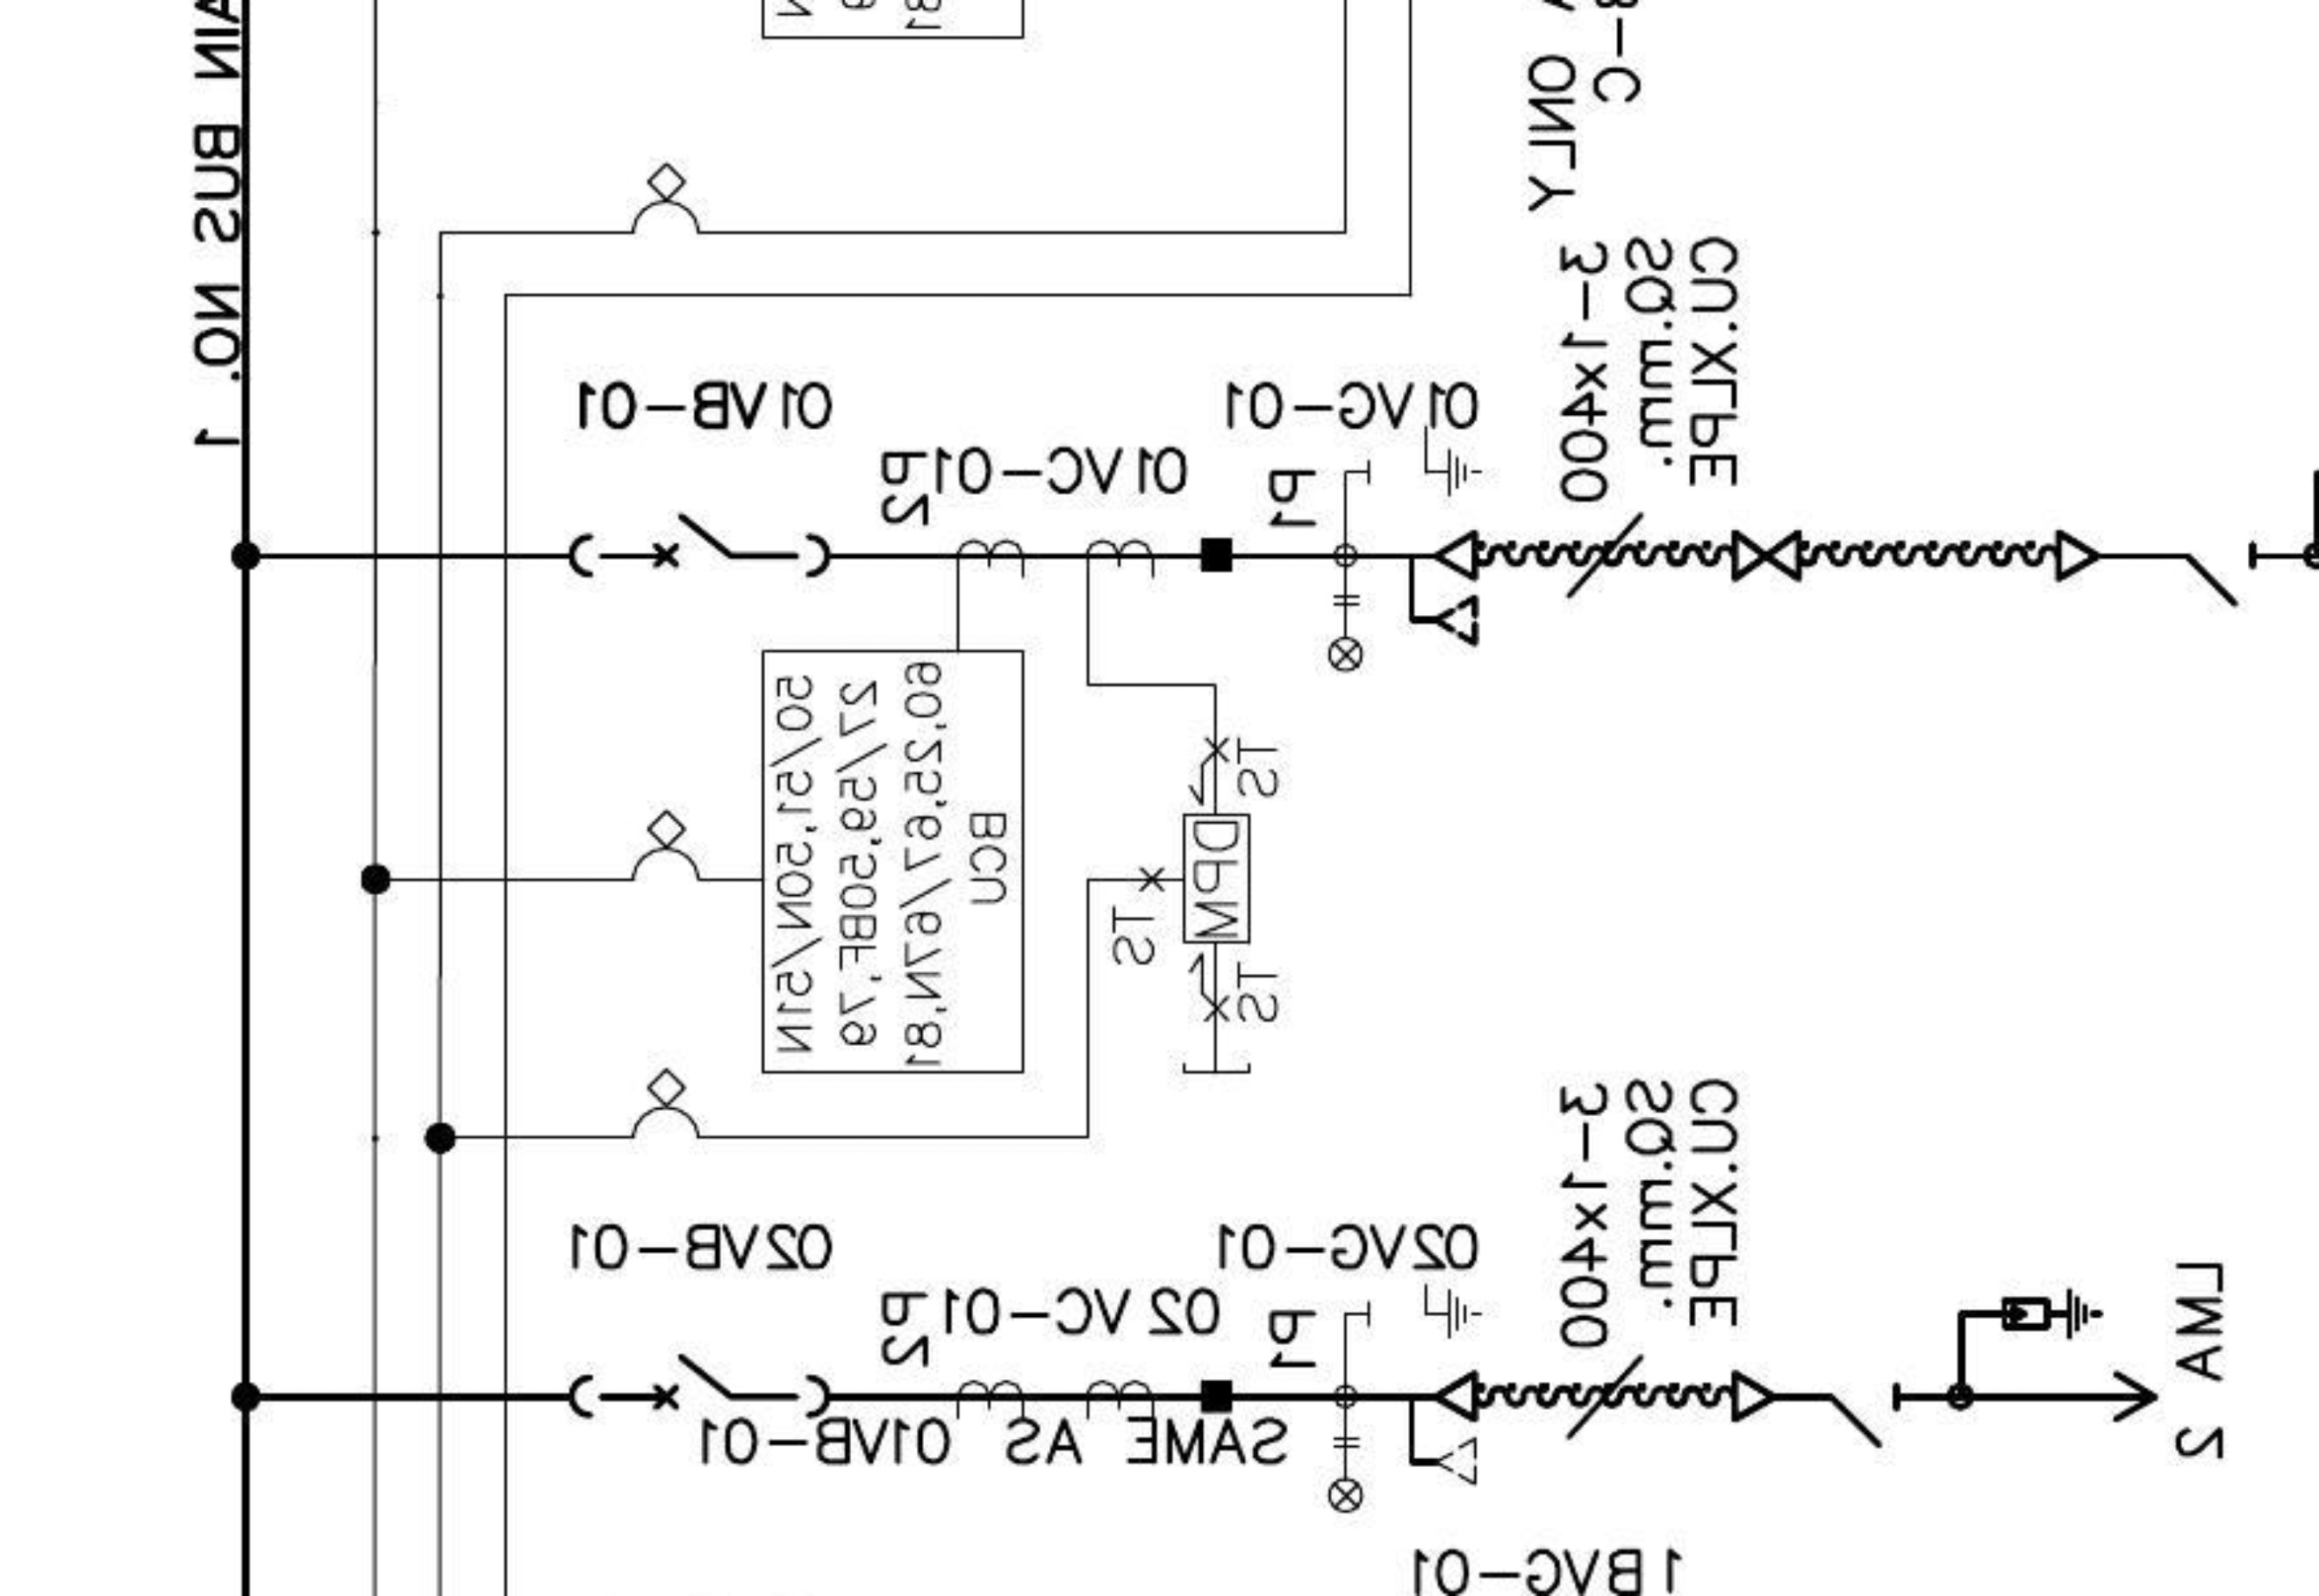22_breaker: (566, 1351, 834, 1422), (567, 511, 834, 581)
22_ds_la_out: (1827, 1288, 2160, 1450)
22_gs: (1364, 425, 1482, 500), (1364, 1279, 1484, 1342)
22_ll: (1325, 594, 1366, 673), (1327, 1434, 1366, 1515)
DPM: (1181, 810, 1255, 948)
terminator_single: (2051, 527, 2100, 587), (1729, 1367, 1776, 1425)
terminator_splicing_kits: (1730, 528, 1803, 583)
terminator_w_future: (1404, 527, 1480, 648), (1406, 1369, 1482, 1490)
